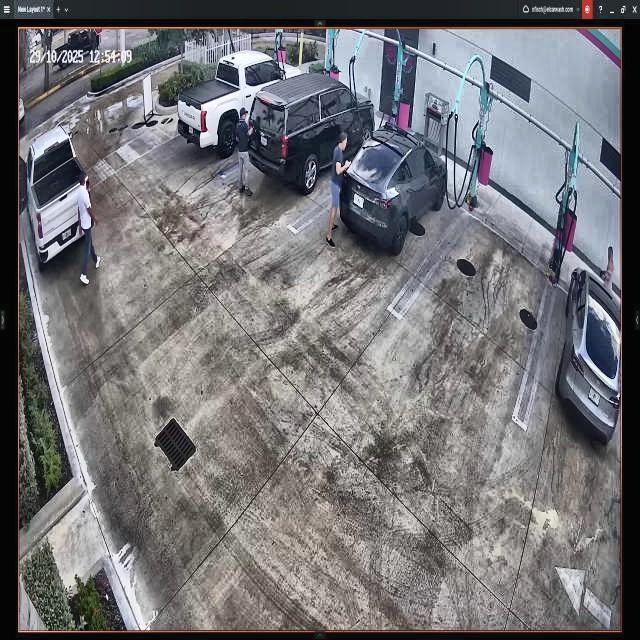Car: (248, 72, 374, 189), (340, 125, 446, 256)
